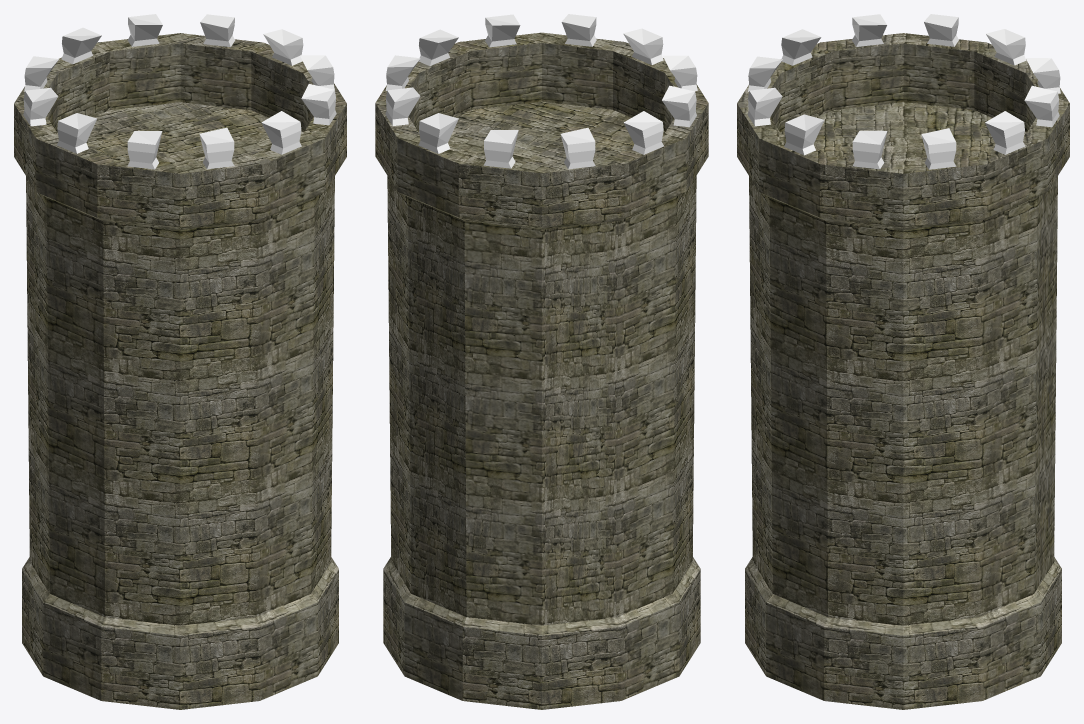
File: tower3_LOD1.fbx
The picture shows the model from 3 angles, left to right: view 1: azimuth 30°, elevation 25°; view 2: azimuth 150°, elevation 25°; view 3: azimuth 270°, elevation 25°; orthographic projection.
Visible parts, largest first — view 1: Default_Layer; view 2: Default_Layer; view 3: Default_Layer.
Part boxes in pixels (x1,y1,x2,y2): Default_Layer: [14, 14, 346, 709]; Default_Layer: [375, 14, 708, 709]; Default_Layer: [737, 14, 1069, 709].
Bounding box in the file's own units: 1454 × 2730 × 1454.
